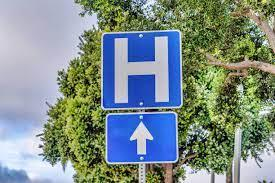Hospital: (98, 39, 182, 159)
